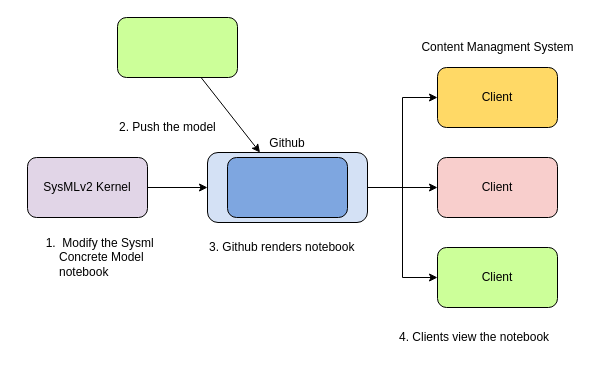
Image size: 608x365. Some labels were removed from this diagram. Here are the shapes that lost their labels. From the top down, the box of each, then its label:
(116, 16, 238, 78): Other tools
(226, 156, 348, 218): notebook renderer
